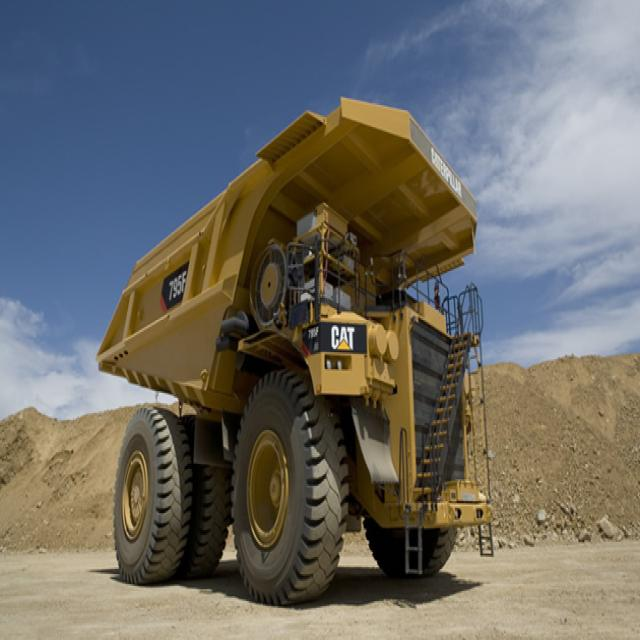dump_truck: (105, 90, 505, 598)
